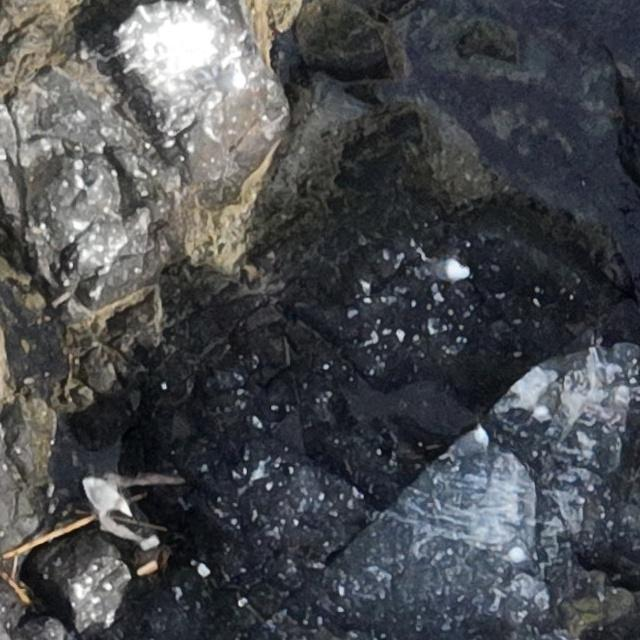umineko: (426, 259, 469, 282), (509, 546, 538, 578)
